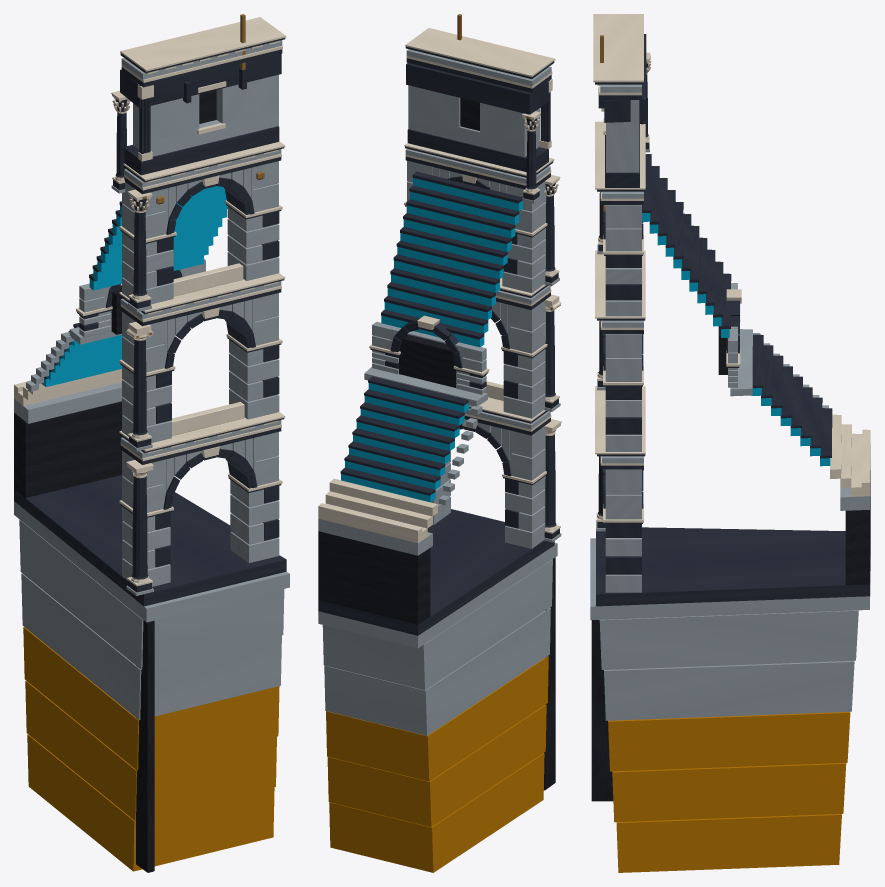
Rendered from UMOD_03_Vomitorium_Cavea_Bay.glb.
3 renders of one model, left to right at view 1: azimuth 30°, elevation 25°; view 2: azimuth 150°, elevation 25°; view 3: azimuth 270°, elevation 25°, orthographic. The views are drawn at different scales.
Visible parts, largest first — view 1: UMOD_03_Vomitorium_Cavea_Bay; view 2: UMOD_03_Vomitorium_Cavea_Bay; view 3: UMOD_03_Vomitorium_Cavea_Bay.
Boxes of the visible parts, x1,y1,x2,y2 form: UMOD_03_Vomitorium_Cavea_Bay: [14, 14, 289, 872]; UMOD_03_Vomitorium_Cavea_Bay: [318, 14, 561, 872]; UMOD_03_Vomitorium_Cavea_Bay: [590, 14, 870, 872].
Bounding box in the file's own units: 18.31 × 96.54 × 29.97.
Materials: 8 (8 with a texture image).
